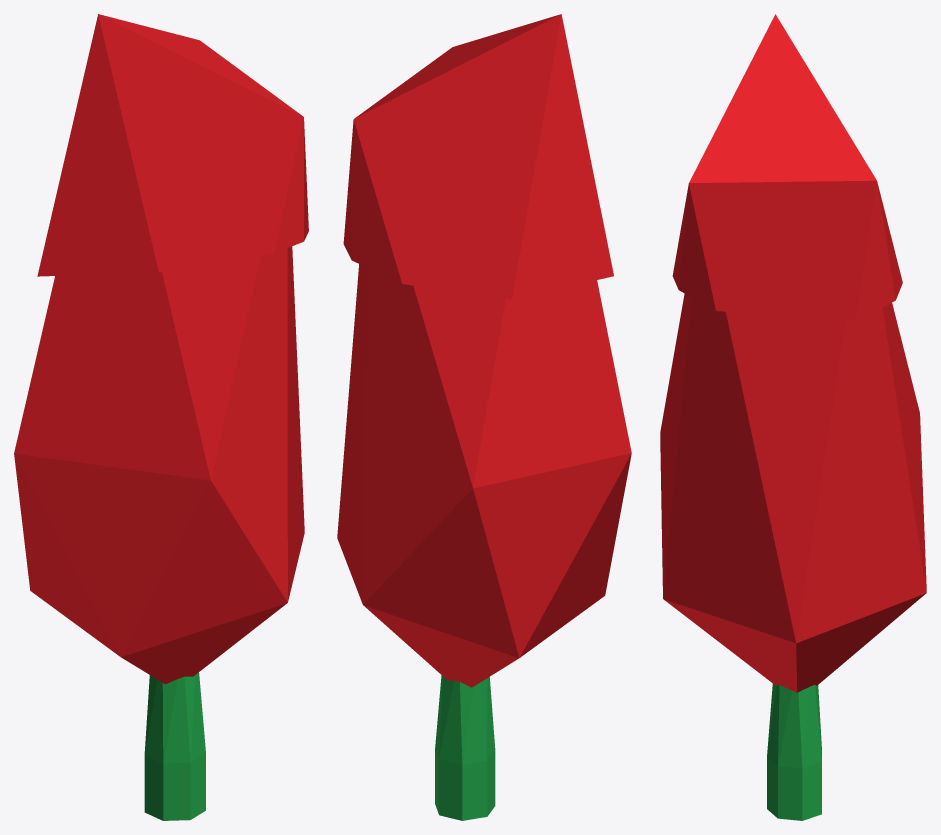
Rendered from MediumBush.obj.
3 views of the same model, side by side, from view 1: azimuth 30°, elevation 25°; view 2: azimuth 150°, elevation 25°; view 3: azimuth 270°, elevation 25° (orthographic). The views are drawn at different scales.
Visible parts, largest first — view 1: Cylinder.017; view 2: Cylinder.017; view 3: Cylinder.017.
Boxes of the visible parts, x1,y1,x2,y2 form: Cylinder.017: [14, 14, 308, 820]; Cylinder.017: [337, 14, 631, 820]; Cylinder.017: [660, 14, 926, 820].
Size of the model in its own units: 1.21 by 3.23 by 1.03.
